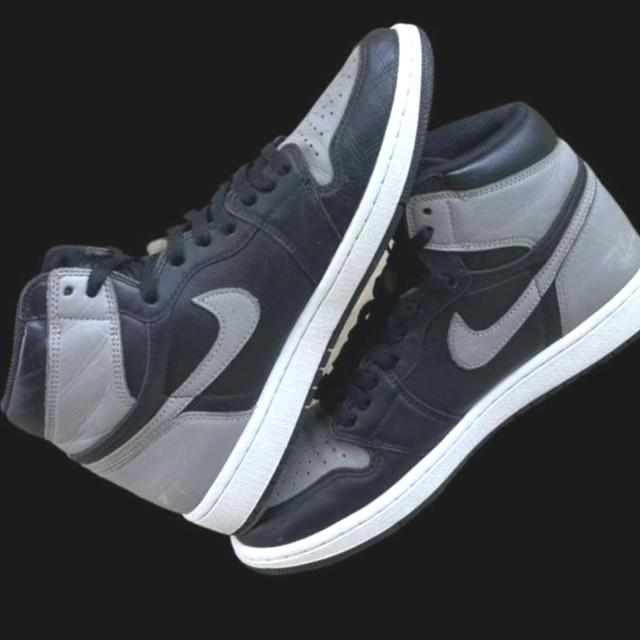nike_original_jordan: (0, 0, 640, 640), (66, 17, 640, 640)
